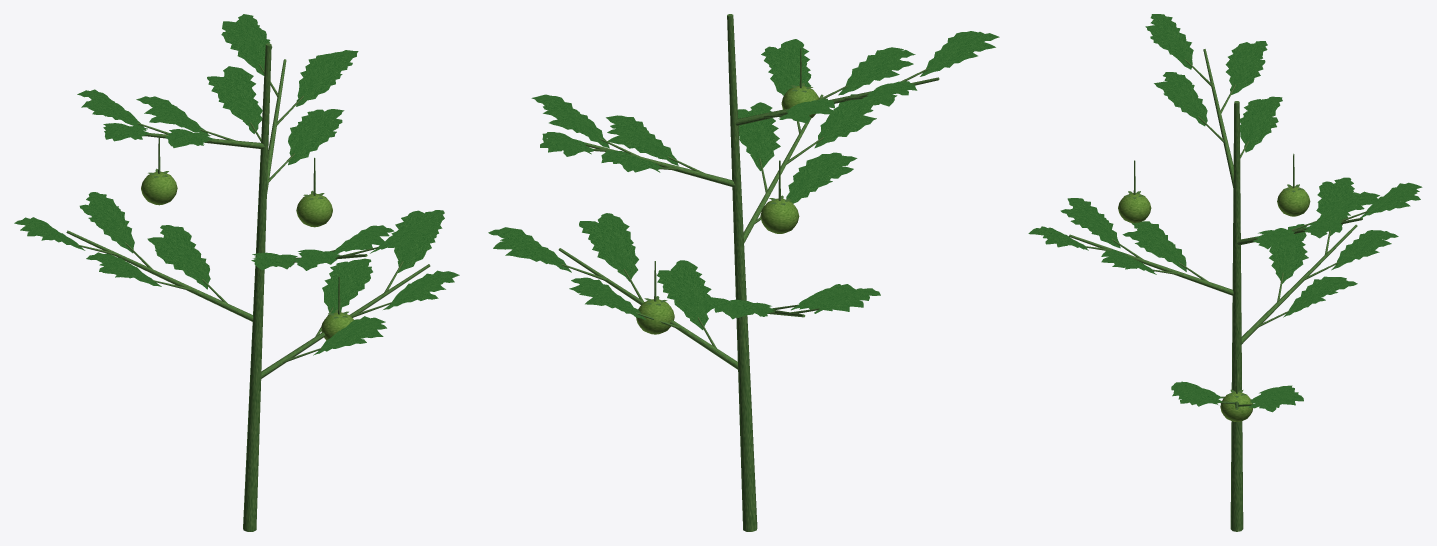
The model's file is PZ_Crop_Tomato_Mid.glb.
3 renders of one model, left to right at view 1: azimuth 30°, elevation 25°; view 2: azimuth 150°, elevation 25°; view 3: azimuth 270°, elevation 25°, orthographic. The views are drawn at different scales.
Visible parts, largest first — view 1: PZ_Crop_Tomato_Mid_03_Serrated_Compound_Leaves, PZ_Crop_Tomato_Mid_01_Tomato_Branches, PZ_Crop_Tomato_Mid_04_Green_Fruits, PZ_Crop_Tomato_Mid_02_Petioles; view 2: PZ_Crop_Tomato_Mid_03_Serrated_Compound_Leaves, PZ_Crop_Tomato_Mid_01_Tomato_Branches, PZ_Crop_Tomato_Mid_04_Green_Fruits, PZ_Crop_Tomato_Mid_02_Petioles; view 3: PZ_Crop_Tomato_Mid_03_Serrated_Compound_Leaves, PZ_Crop_Tomato_Mid_01_Tomato_Branches, PZ_Crop_Tomato_Mid_04_Green_Fruits, PZ_Crop_Tomato_Mid_02_Petioles.
Part boxes in pixels (bbox=[...]): PZ_Crop_Tomato_Mid_03_Serrated_Compound_Leaves: bbox=[14, 14, 459, 355]; PZ_Crop_Tomato_Mid_01_Tomato_Branches: bbox=[66, 43, 430, 531]; PZ_Crop_Tomato_Mid_04_Green_Fruits: bbox=[141, 171, 353, 340]; PZ_Crop_Tomato_Mid_02_Petioles: bbox=[77, 64, 403, 362]; PZ_Crop_Tomato_Mid_03_Serrated_Compound_Leaves: bbox=[488, 31, 999, 329]; PZ_Crop_Tomato_Mid_01_Tomato_Branches: bbox=[558, 14, 939, 531]; PZ_Crop_Tomato_Mid_04_Green_Fruits: bbox=[636, 86, 819, 334]; PZ_Crop_Tomato_Mid_02_Petioles: bbox=[561, 67, 930, 347]; PZ_Crop_Tomato_Mid_03_Serrated_Compound_Leaves: bbox=[1028, 14, 1422, 412]; PZ_Crop_Tomato_Mid_01_Tomato_Branches: bbox=[1069, 49, 1362, 531]; PZ_Crop_Tomato_Mid_04_Green_Fruits: bbox=[1118, 186, 1310, 421]; PZ_Crop_Tomato_Mid_02_Petioles: bbox=[1082, 59, 1369, 406].
Size of the model in its own units: 0.5396 by 0.6055 by 0.4971.
3 materials, 3 textured.
